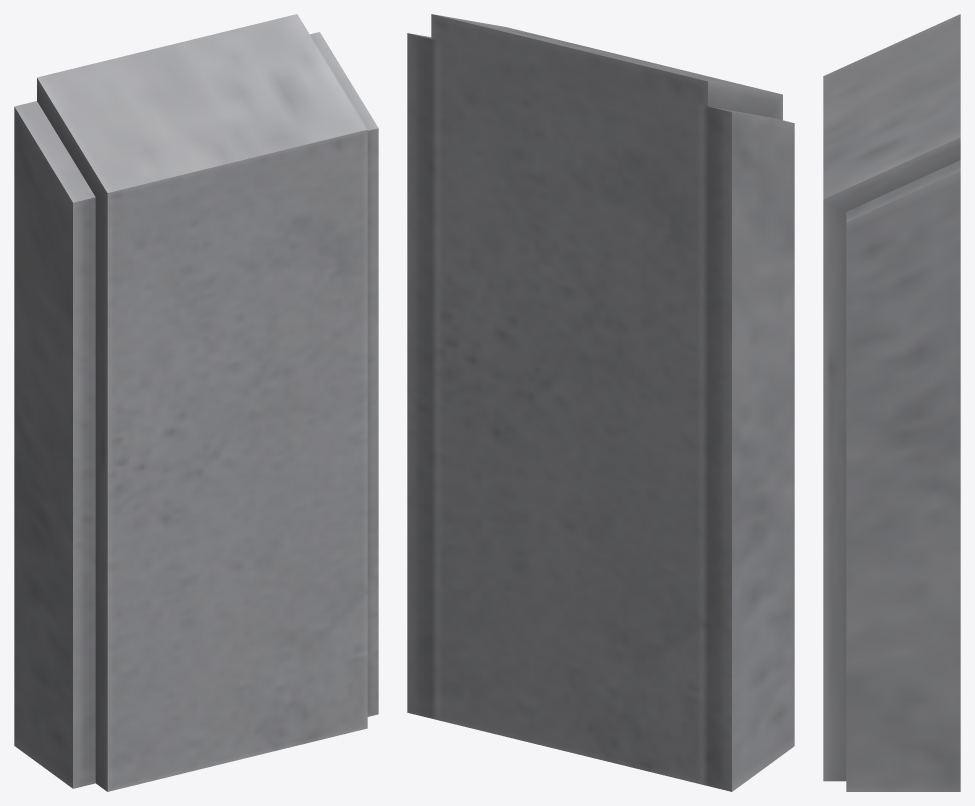
Rendered from set_curb_stairs_end.fbx.
3 renders of one model, left to right at view 1: azimuth 30°, elevation 25°; view 2: azimuth 150°, elevation 25°; view 3: azimuth 270°, elevation 25°, orthographic. The views are drawn at different scales.
Parts seen in each view (by area): view 1: set_curb_stairs_end; view 2: set_curb_stairs_end; view 3: set_curb_stairs_end.
Boxes of the visible parts, x1,y1,x2,y2 form: set_curb_stairs_end: (14,14,378,791); set_curb_stairs_end: (407,14,794,791); set_curb_stairs_end: (823,14,960,791).
Size of the model in its own units: 30 by 62.2 by 12.
